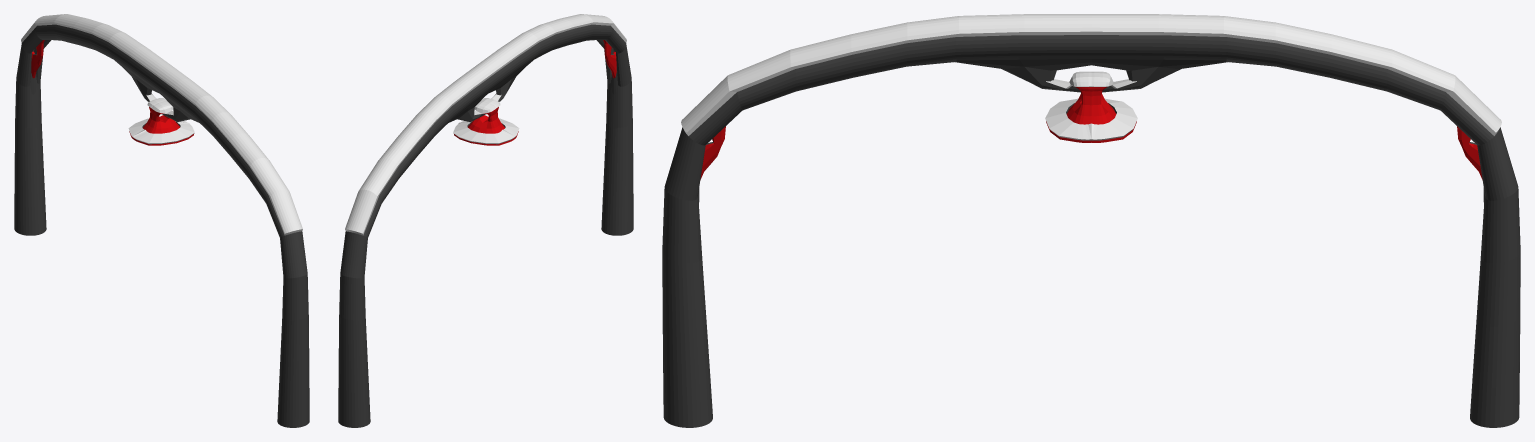
File: PetiteHarche.fbx
The picture shows the model from 3 angles, left to right: view 1: azimuth 30°, elevation 25°; view 2: azimuth 150°, elevation 25°; view 3: azimuth 270°, elevation 25°; orthographic projection. The views are drawn at different scales.
Parts seen in each view (by area): view 1: Cylinder; view 2: Cylinder; view 3: Cylinder.
Part boxes in pixels (x1=…): Cylinder: x1=14, y1=14, x2=309, y2=427; Cylinder: x1=338, y1=14, x2=633, y2=427; Cylinder: x1=662, y1=14, x2=1520, y2=427.
Bounding box in the file's own units: 125 × 555 × 1073.
